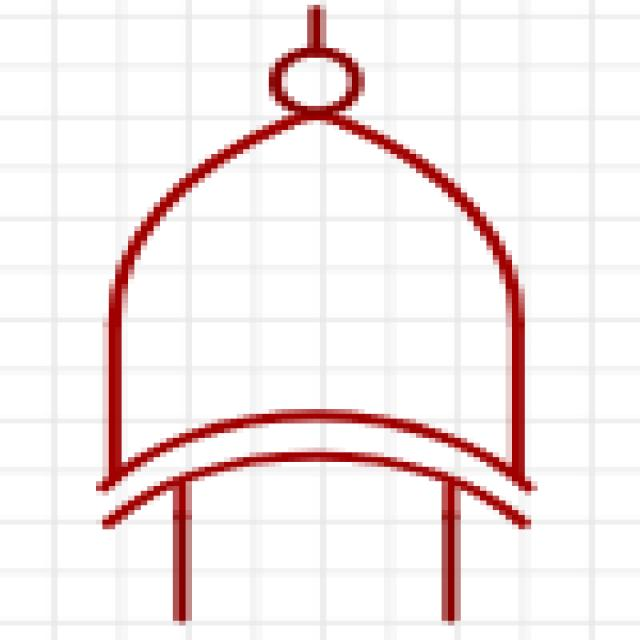xnor: (50, 7, 632, 620)
